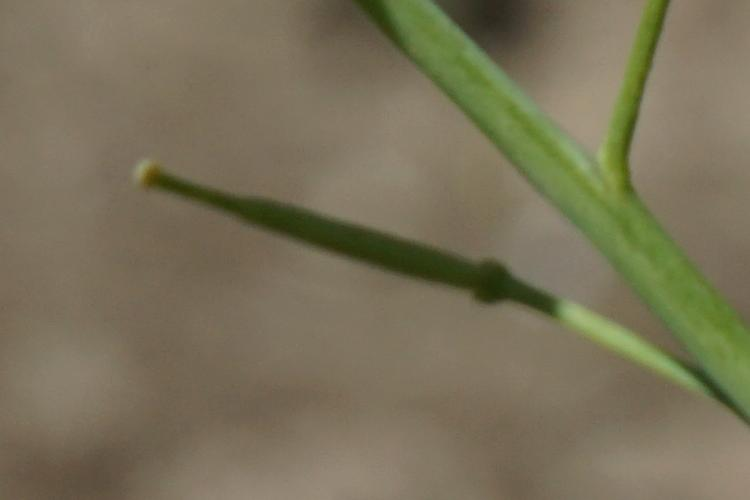pod: (107, 139, 541, 337)
